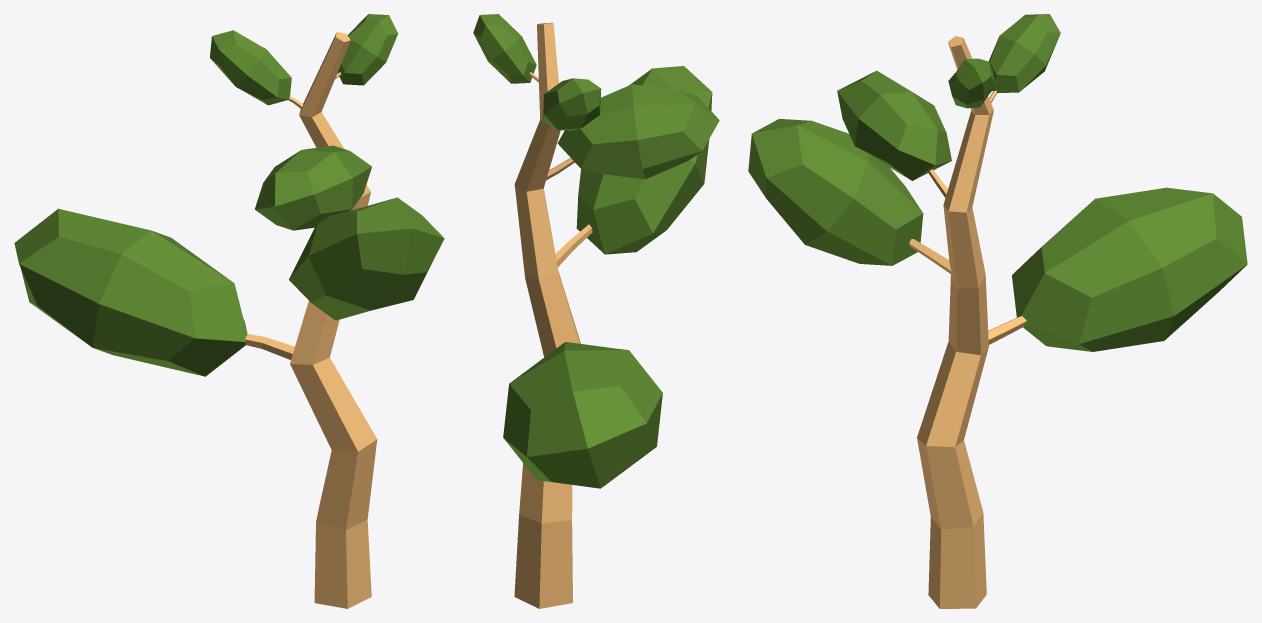
File: bush2.obj
3 views of the same model, side by side, from view 1: azimuth 30°, elevation 25°; view 2: azimuth 150°, elevation 25°; view 3: azimuth 270°, elevation 25° (orthographic). The views are drawn at different scales.
Parts seen in each view (by area): view 1: main_birch.003_leaf, main_birch.003_wood; view 2: main_birch.003_leaf, main_birch.003_wood; view 3: main_birch.003_leaf, main_birch.003_wood.
Part boxes in pixels (left/top/right/bottom): main_birch.003_leaf: left=14, top=14, right=444, bottom=376; main_birch.003_wood: left=245, top=32, right=377, bottom=608; main_birch.003_leaf: left=473, top=14, right=719, bottom=488; main_birch.003_wood: left=514, top=22, right=592, bottom=608; main_birch.003_leaf: left=748, top=14, right=1247, bottom=351; main_birch.003_wood: left=909, top=36, right=1026, bottom=608.
Size of the model in its own units: 4.84 by 9.68 by 7.81.
